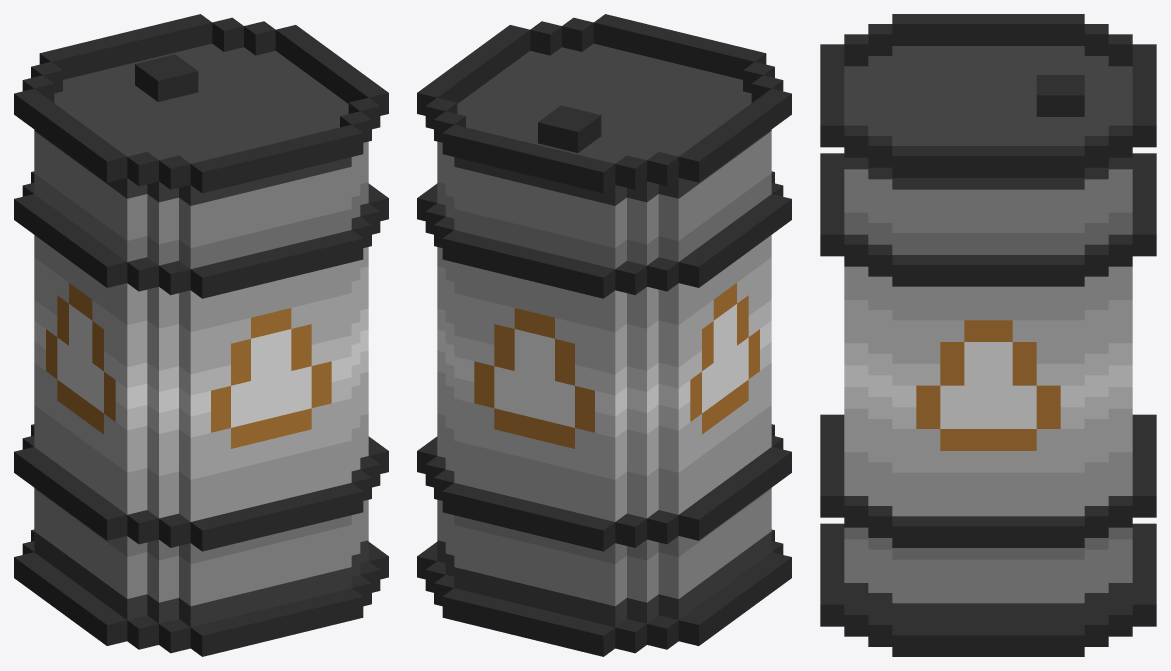
File: Barrel.obj
3 renders of one model, left to right at view 1: azimuth 30°, elevation 25°; view 2: azimuth 150°, elevation 25°; view 3: azimuth 270°, elevation 25°, orthographic. The views are drawn at different scales.
Bounding box in the file's own units: 1.4 × 2.3 × 1.4.
Materials: 1 (1 with a texture image).
